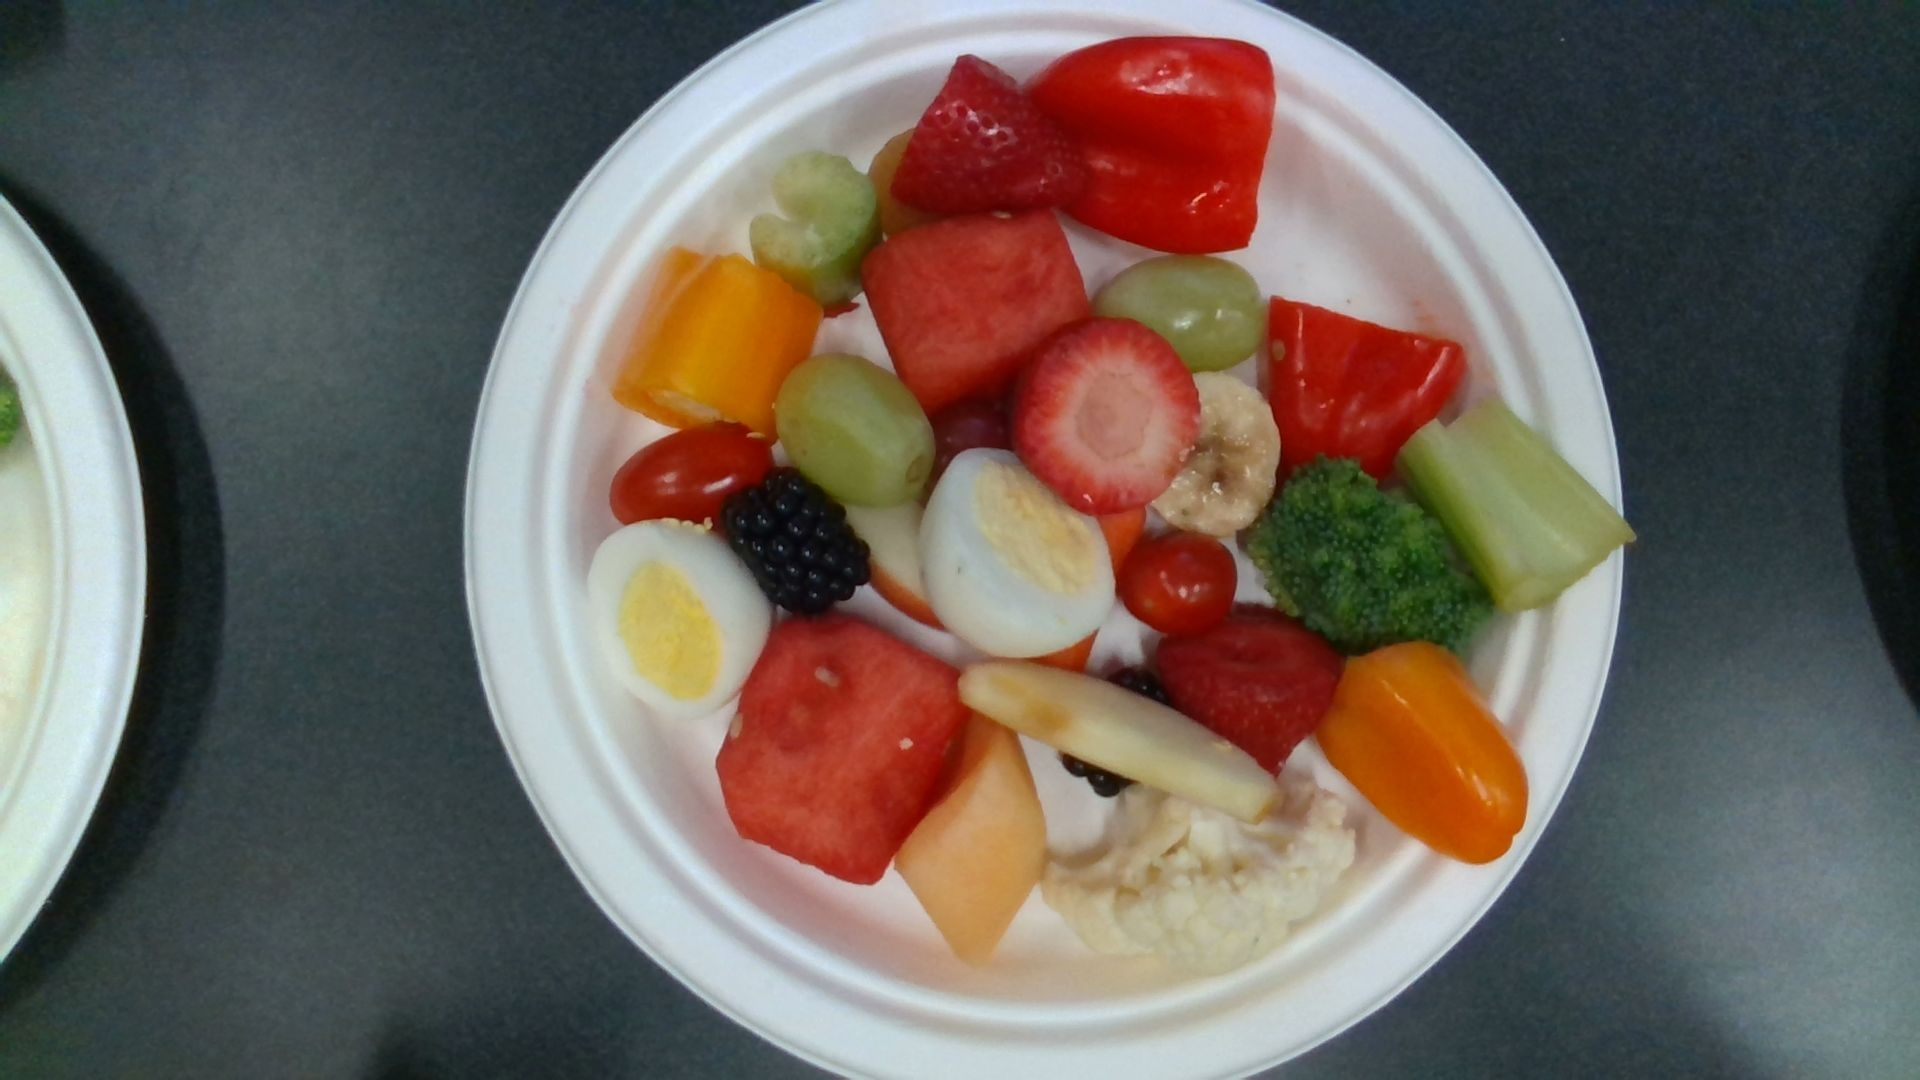apple: (960, 658, 1282, 822)
banana: (1145, 373, 1279, 535)
bell_pepper: (1025, 40, 1273, 248), (1319, 641, 1519, 860), (1265, 298, 1466, 480), (615, 258, 819, 436)
blackberry: (727, 471, 870, 611)
broccoli: (1242, 462, 1487, 646)
cantalope: (899, 735, 1044, 965)
cauliflower: (1044, 770, 1352, 975)
celery: (1404, 390, 1636, 611), (754, 160, 877, 290)
cherry_tomato: (607, 425, 775, 520), (1124, 535, 1236, 630)
egg: (920, 450, 1114, 658), (587, 520, 775, 711)
grape_green: (1091, 256, 1265, 367)
melon: (715, 613, 964, 885), (865, 215, 1087, 401)
strawberry: (1014, 320, 1204, 516), (894, 61, 1085, 216), (1154, 616, 1342, 771)
